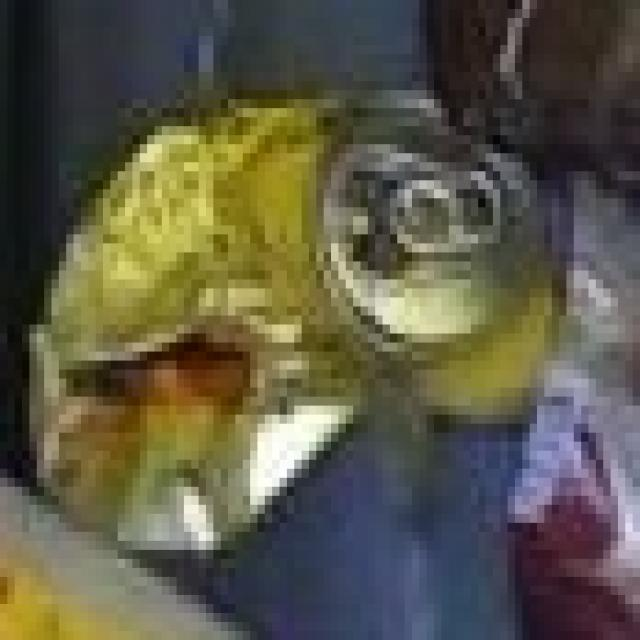litter: (16, 47, 578, 596)
